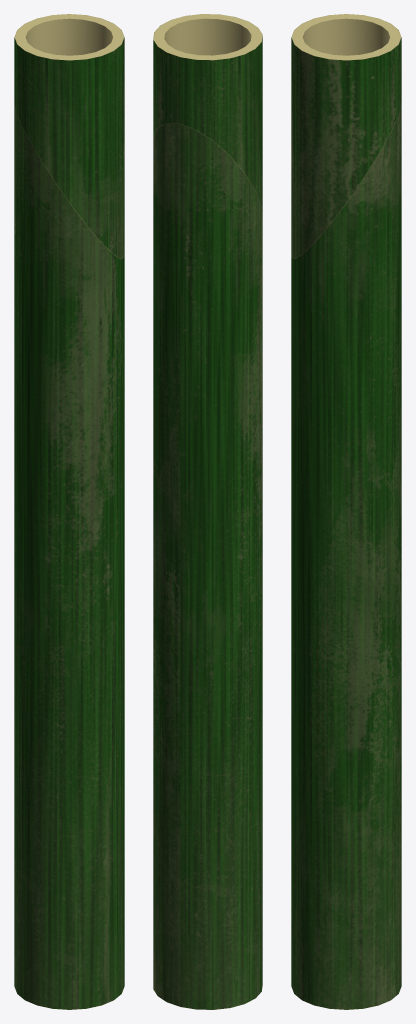
The model's file is bamboo06.fbx.
The picture shows the model from 3 angles, left to right: view 1: azimuth 90°, elevation 25°; view 2: azimuth 150°, elevation 25°; view 3: azimuth 270°, elevation 25°; orthographic projection.
Parts seen in each view (by area): view 1: bamboo06_down, bamboo06_up; view 2: bamboo06_down, bamboo06_up; view 3: bamboo06_down, bamboo06_up.
Part boxes in pixels (box(x1,y1,x2,y2)): bamboo06_down: box(14, 104, 124, 1009); bamboo06_up: box(14, 14, 124, 259); bamboo06_down: box(153, 123, 262, 1009); bamboo06_up: box(153, 14, 262, 218); bamboo06_down: box(291, 104, 401, 1009); bamboo06_up: box(291, 14, 401, 259).
Bounding box in the file's own units: 23.1 × 220 × 23.1.
